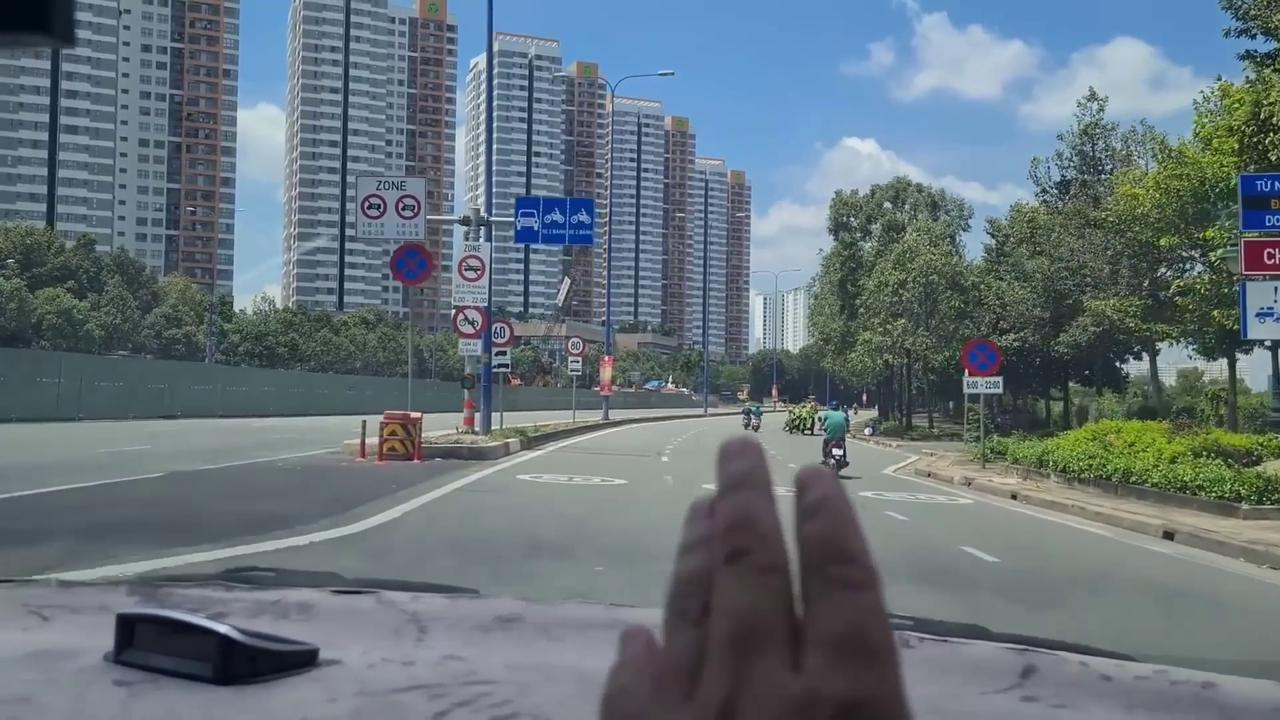Biển phụ: (961, 376, 1006, 395), (489, 347, 512, 374), (457, 338, 482, 356), (568, 356, 582, 376)
Cấm cac phương tiện hoạt động trong khung giờ cố định: (356, 176, 428, 242), (452, 240, 488, 306)
Cấm dừng - Cấm đỗ: (390, 243, 434, 287), (961, 338, 1004, 376)
Cấm xe máy: (451, 305, 487, 338)
GIơi hạn tốc độ 60Km/h: (490, 319, 514, 348)
Giới hạn tốc độ 80Km/h: (566, 336, 585, 356)
Làn đường cho từng xe: (512, 195, 595, 246)
